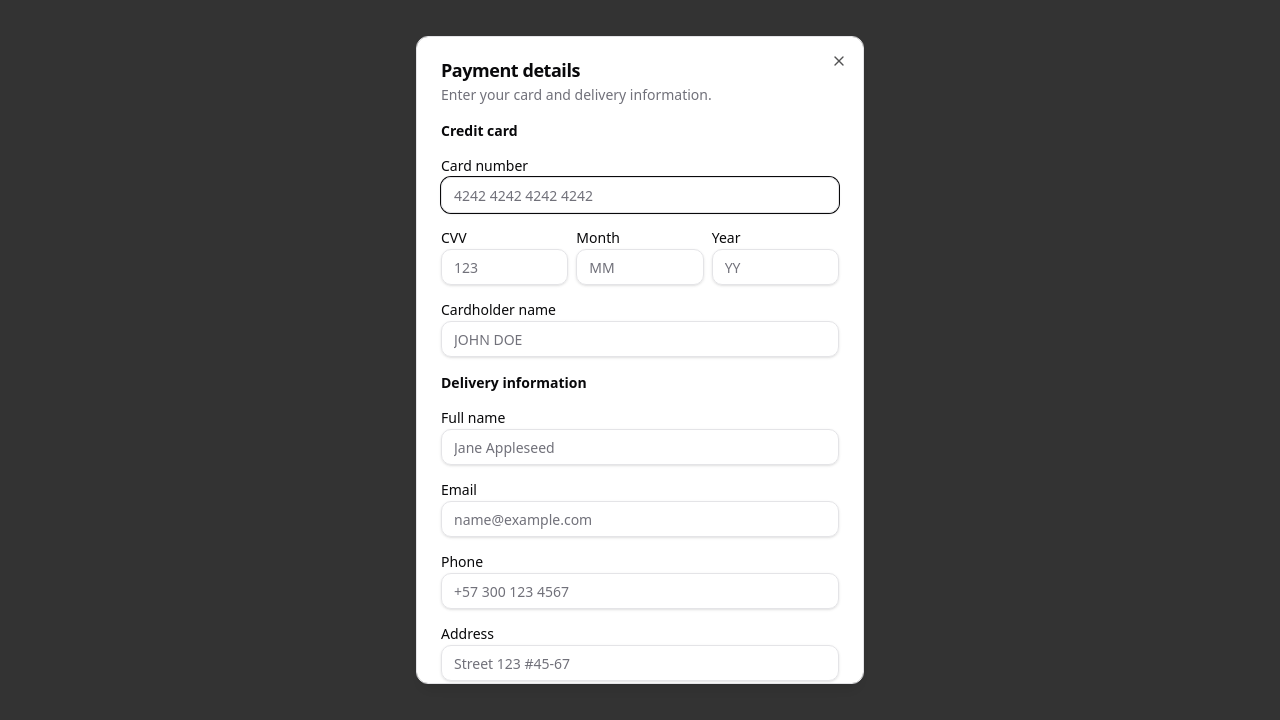
Test: CardDeliveryDialog brand logo › renders the MasterCard logo while typing a MasterCard number
Type "5555 5555 5555 4444" into the field labelled "Card number".
click(640, 195); type("5555 5555 5555 4444")  # box [441,177,839,213]
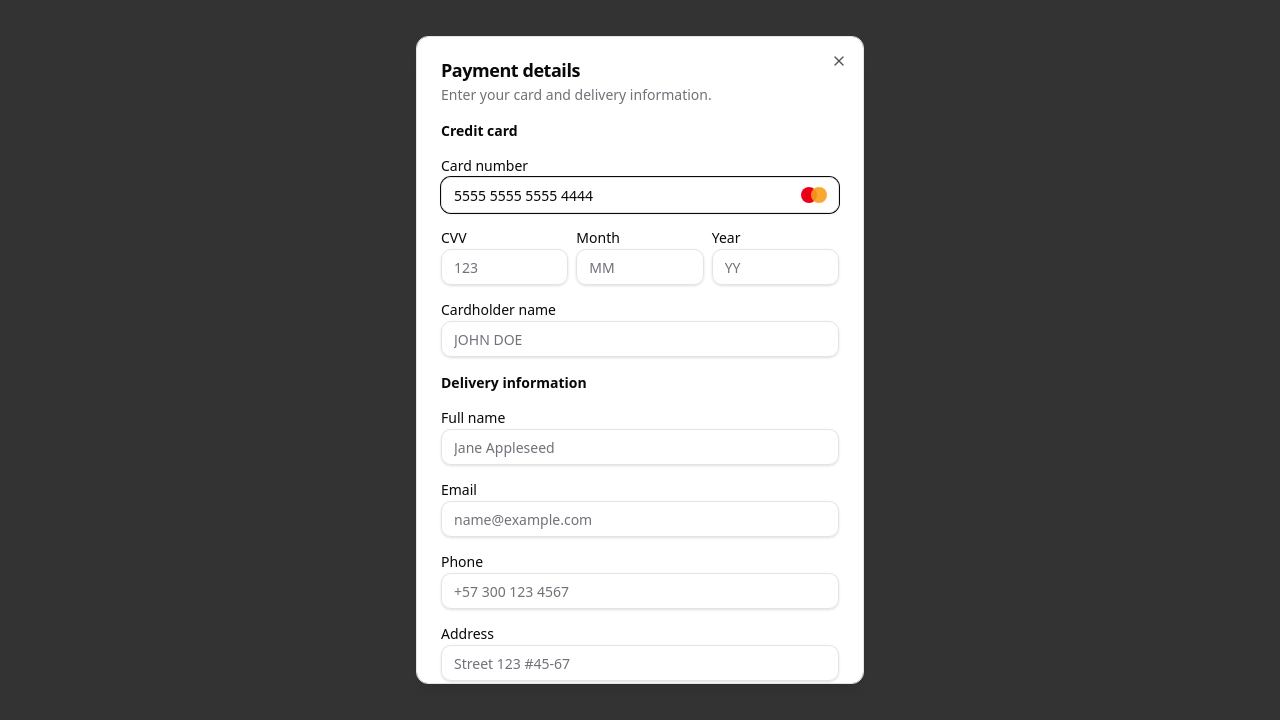
Expected: the element named "MasterCard" is shown, [801,187,827,203]
